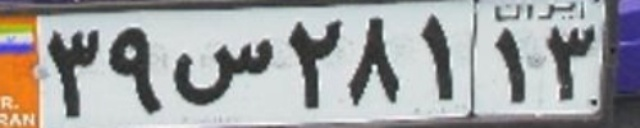1: (417, 13, 454, 100), (493, 27, 526, 103)
2: (287, 18, 341, 108)
3: (45, 28, 100, 118), (544, 24, 597, 101)
8: (347, 18, 399, 104)
9: (107, 26, 163, 114)
sin: (173, 38, 274, 104)
